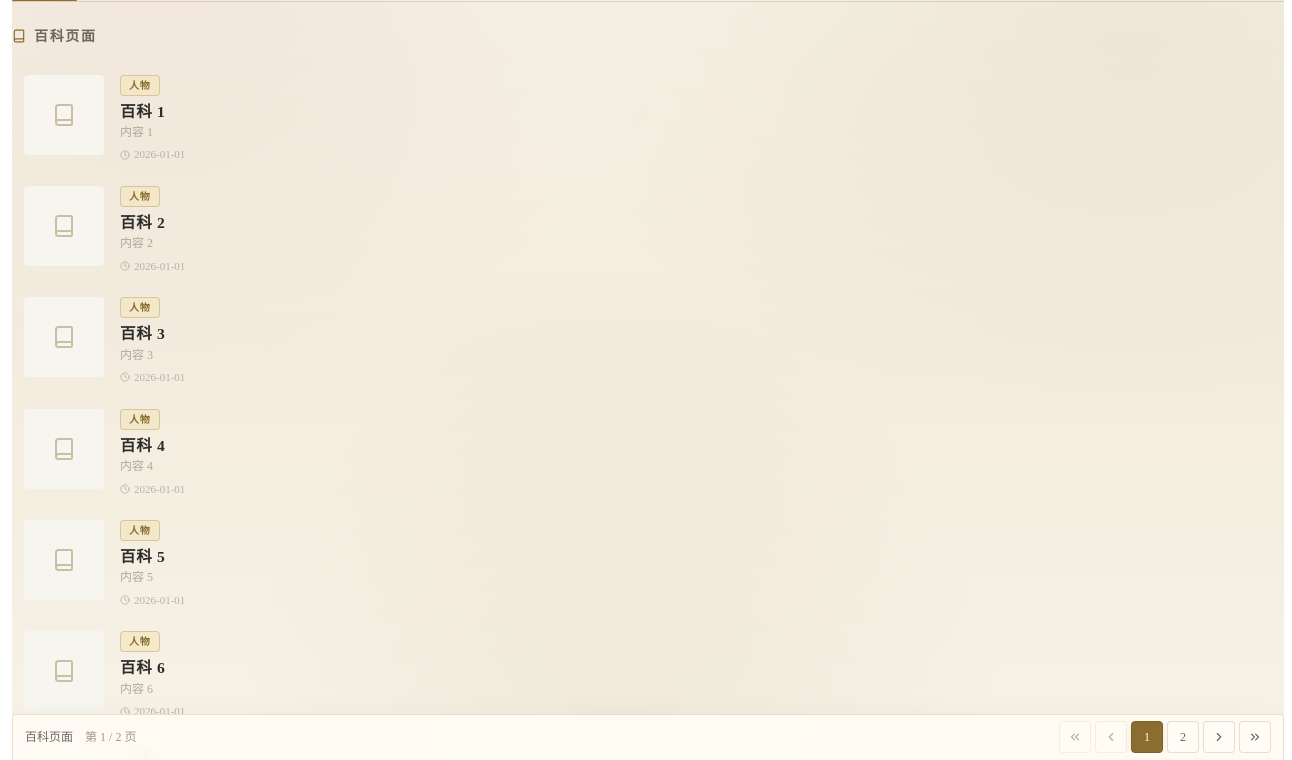
Test case: 搜索结果分类分页 › 独立分页并保留其他类别结果
This screenshot has width=1292, height=760.
Expected: the heading "百科 1" is shown, [120,102,165,120]
Expected: the text "第 1 / 2 页" is shown, [85,729,136,745]
Click the button named "第 2 页". click: (1183, 737)
box: [1167,721,1199,753]
(page scrolled)
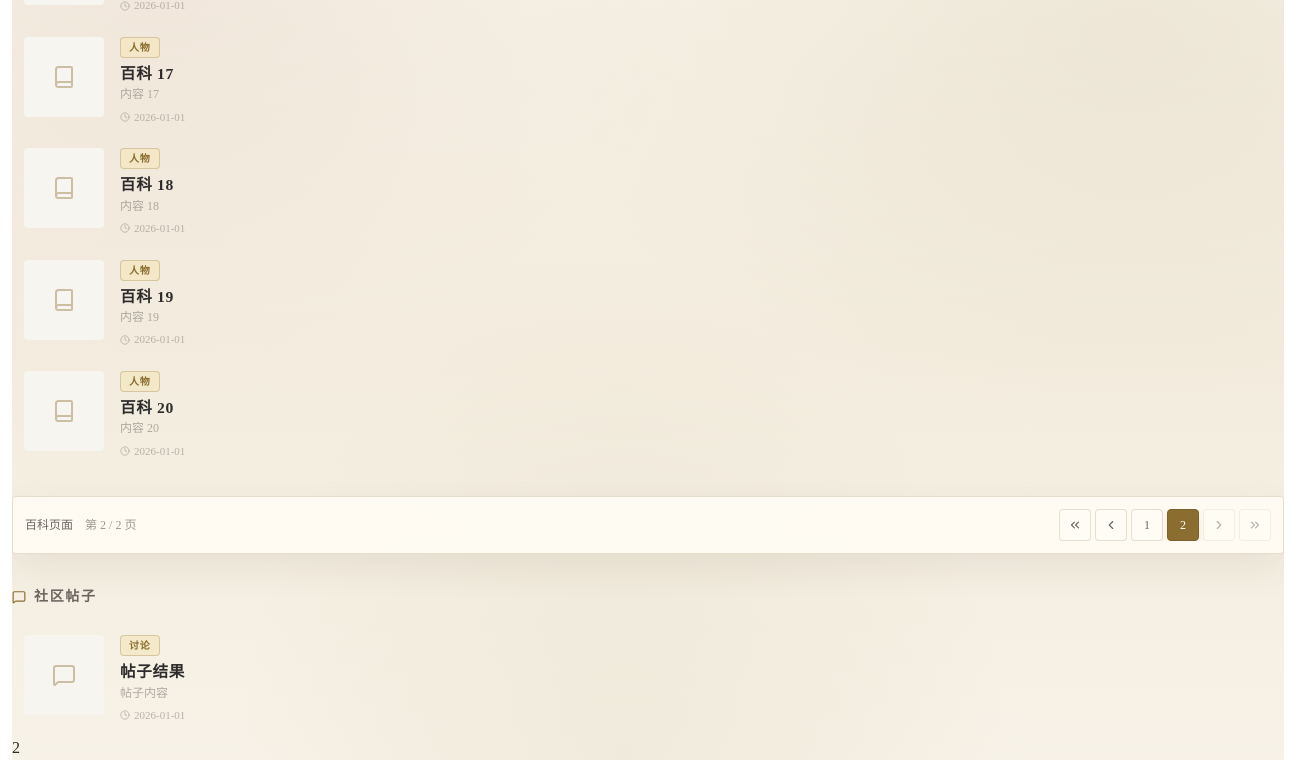
Expected: the text "百科 21" is not shown
Now the text with test id "search-wiki-page" reads "2", box [12,739,20,756]
